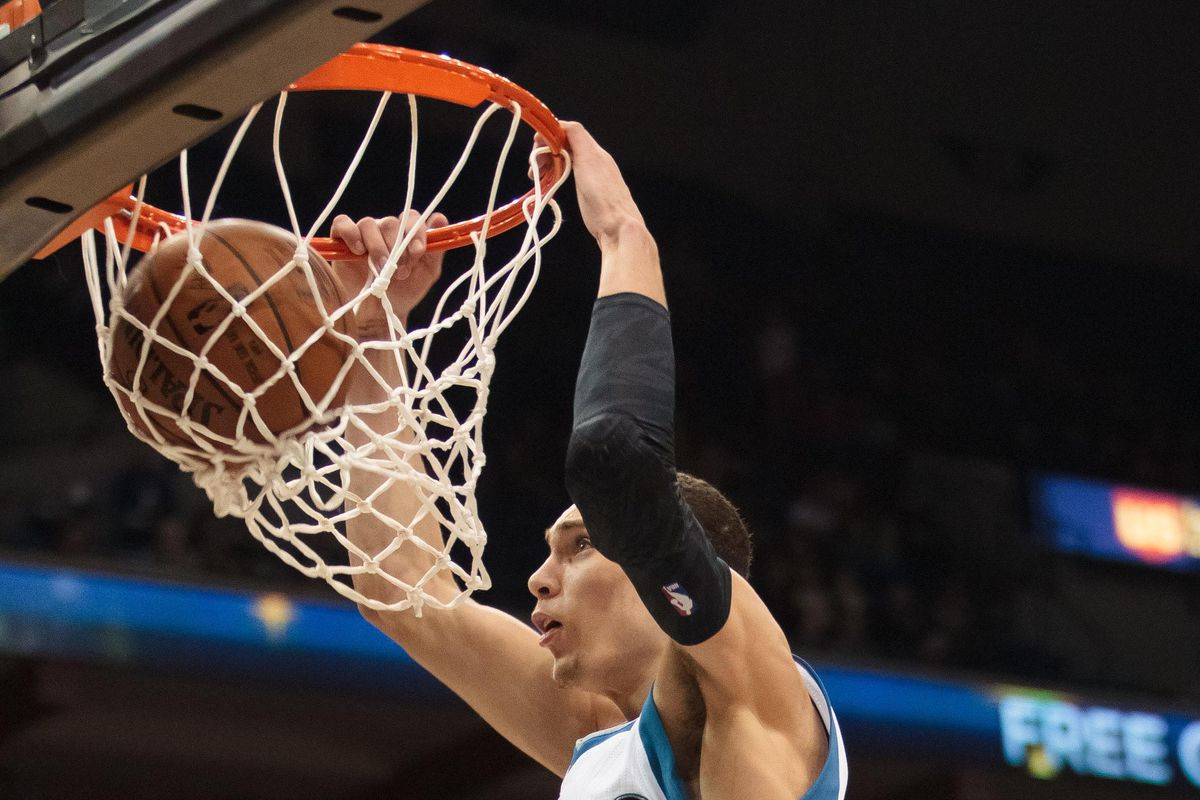basketball: (102, 209, 360, 469)
